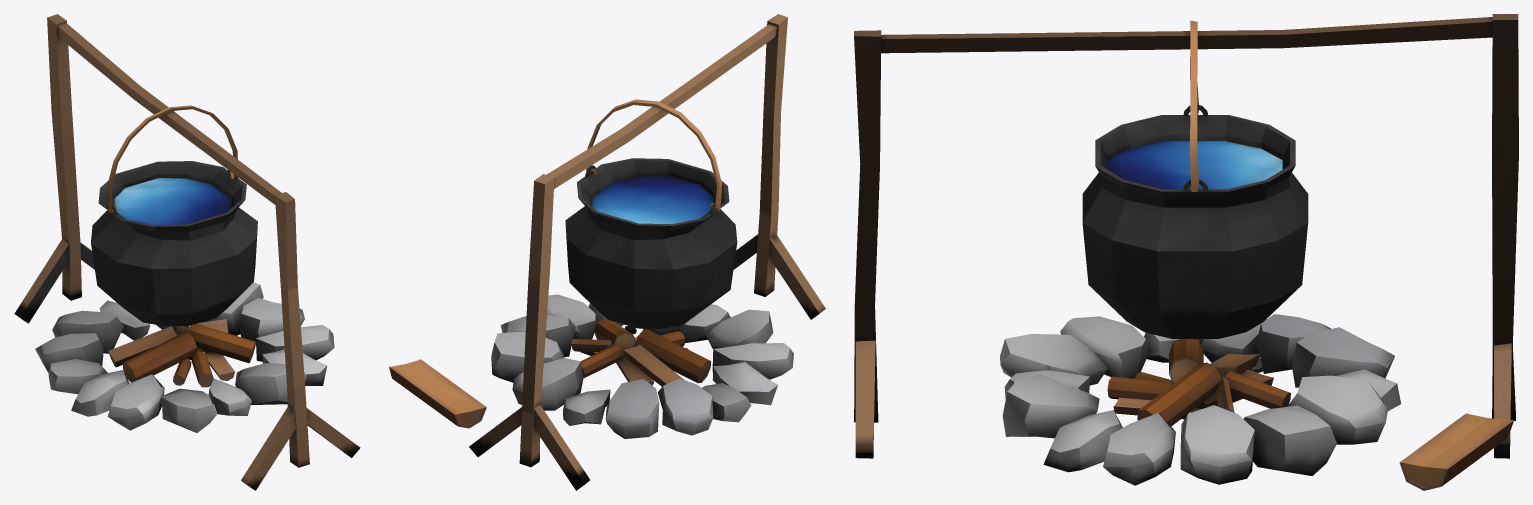
The model's file is ateş.fbx.
3 renders of one model, left to right at view 1: azimuth 30°, elevation 25°; view 2: azimuth 150°, elevation 25°; view 3: azimuth 270°, elevation 25°, orthographic. The views are drawn at different scales.
Parts seen in each view (by area): view 1: ateş, kazan; view 2: ateş, kazan; view 3: ateş, kazan.
Part boxes in pixels (x1,y1,x2,y2): ateş: (14, 14, 360, 490); kazan: (91, 105, 257, 326); ateş: (389, 14, 825, 490); kazan: (565, 99, 737, 328); ateş: (854, 14, 1518, 490); kazan: (1082, 20, 1308, 338).
Size of the model in its own units: 1179 by 1208 by 1766.
1 material, 1 textured.
